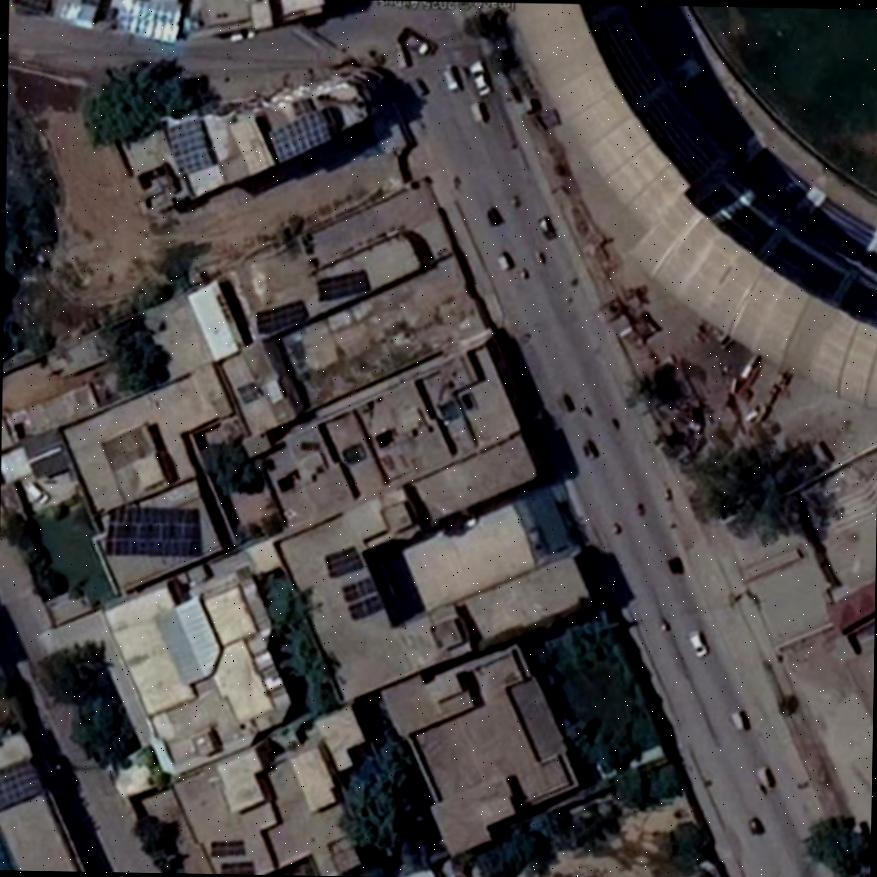Solarpanel: (103, 505, 194, 554), (107, 0, 180, 42), (270, 106, 328, 158), (169, 120, 209, 172), (0, 756, 39, 809), (315, 266, 371, 302), (255, 297, 306, 334), (322, 544, 360, 575), (345, 594, 384, 621), (341, 576, 375, 603), (211, 837, 243, 854), (219, 862, 252, 874)
